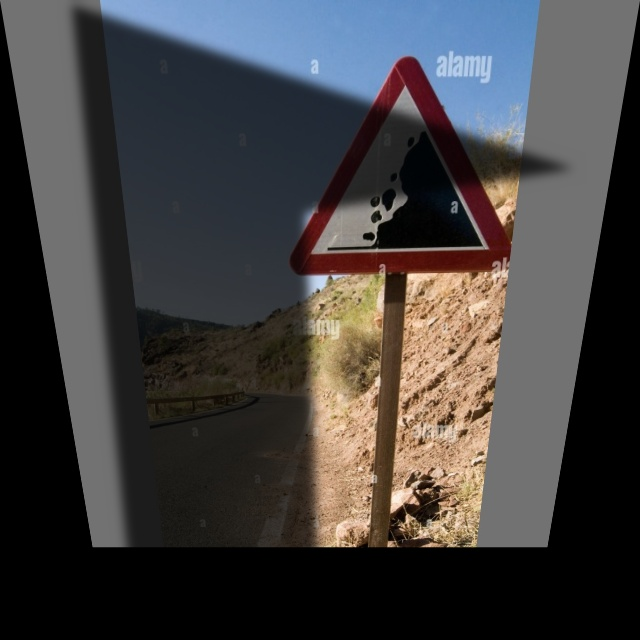Falling_Rocks: (315, 62, 520, 263)
